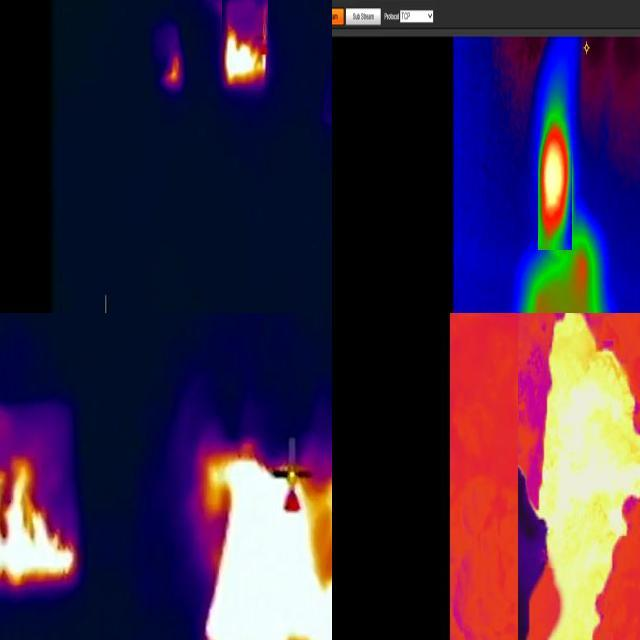fire: (534, 312, 640, 640), (200, 437, 333, 640), (12, 445, 87, 582), (539, 113, 573, 250), (222, 1, 268, 88), (162, 53, 181, 86)
